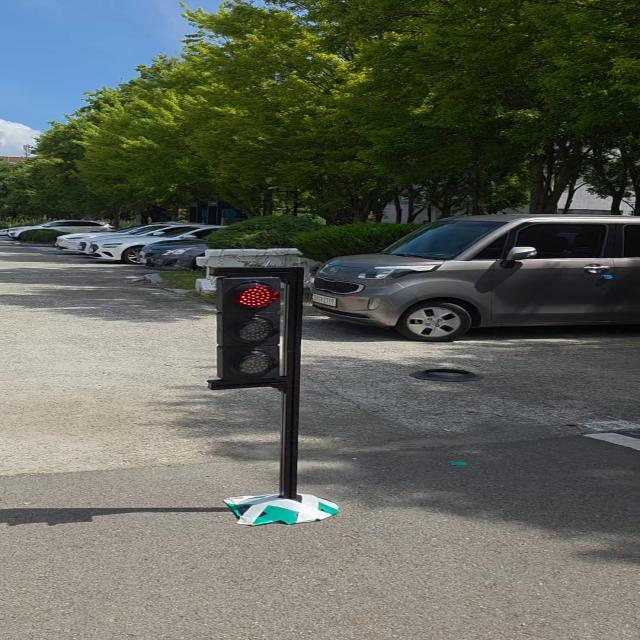red: (201, 266, 298, 392)
